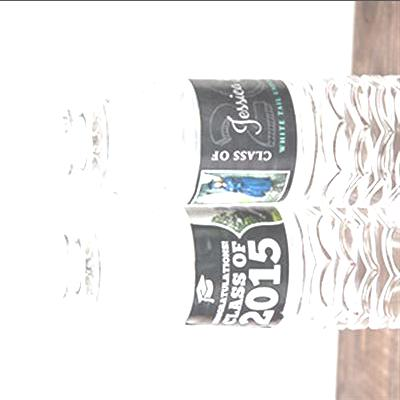bottle: (19, 188, 400, 338), (18, 65, 400, 211)
